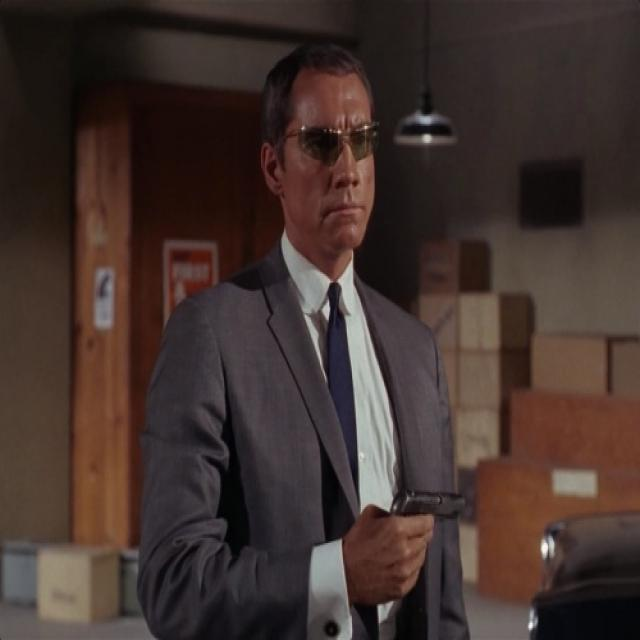weapons: (366, 472, 476, 587)
